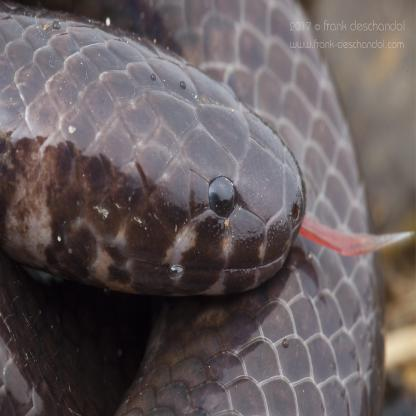Snake: (2, 6, 326, 307)
